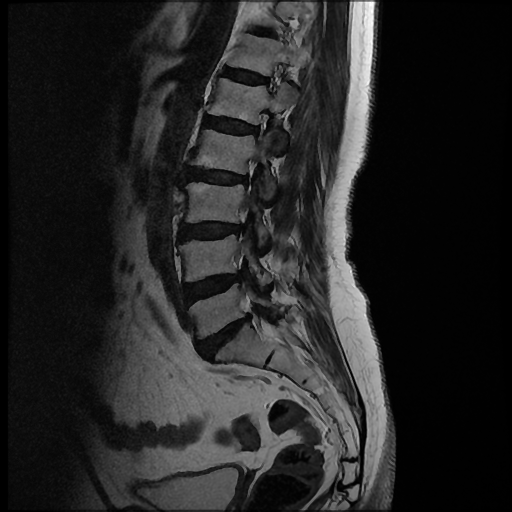LFS0: (244, 104, 278, 149)
